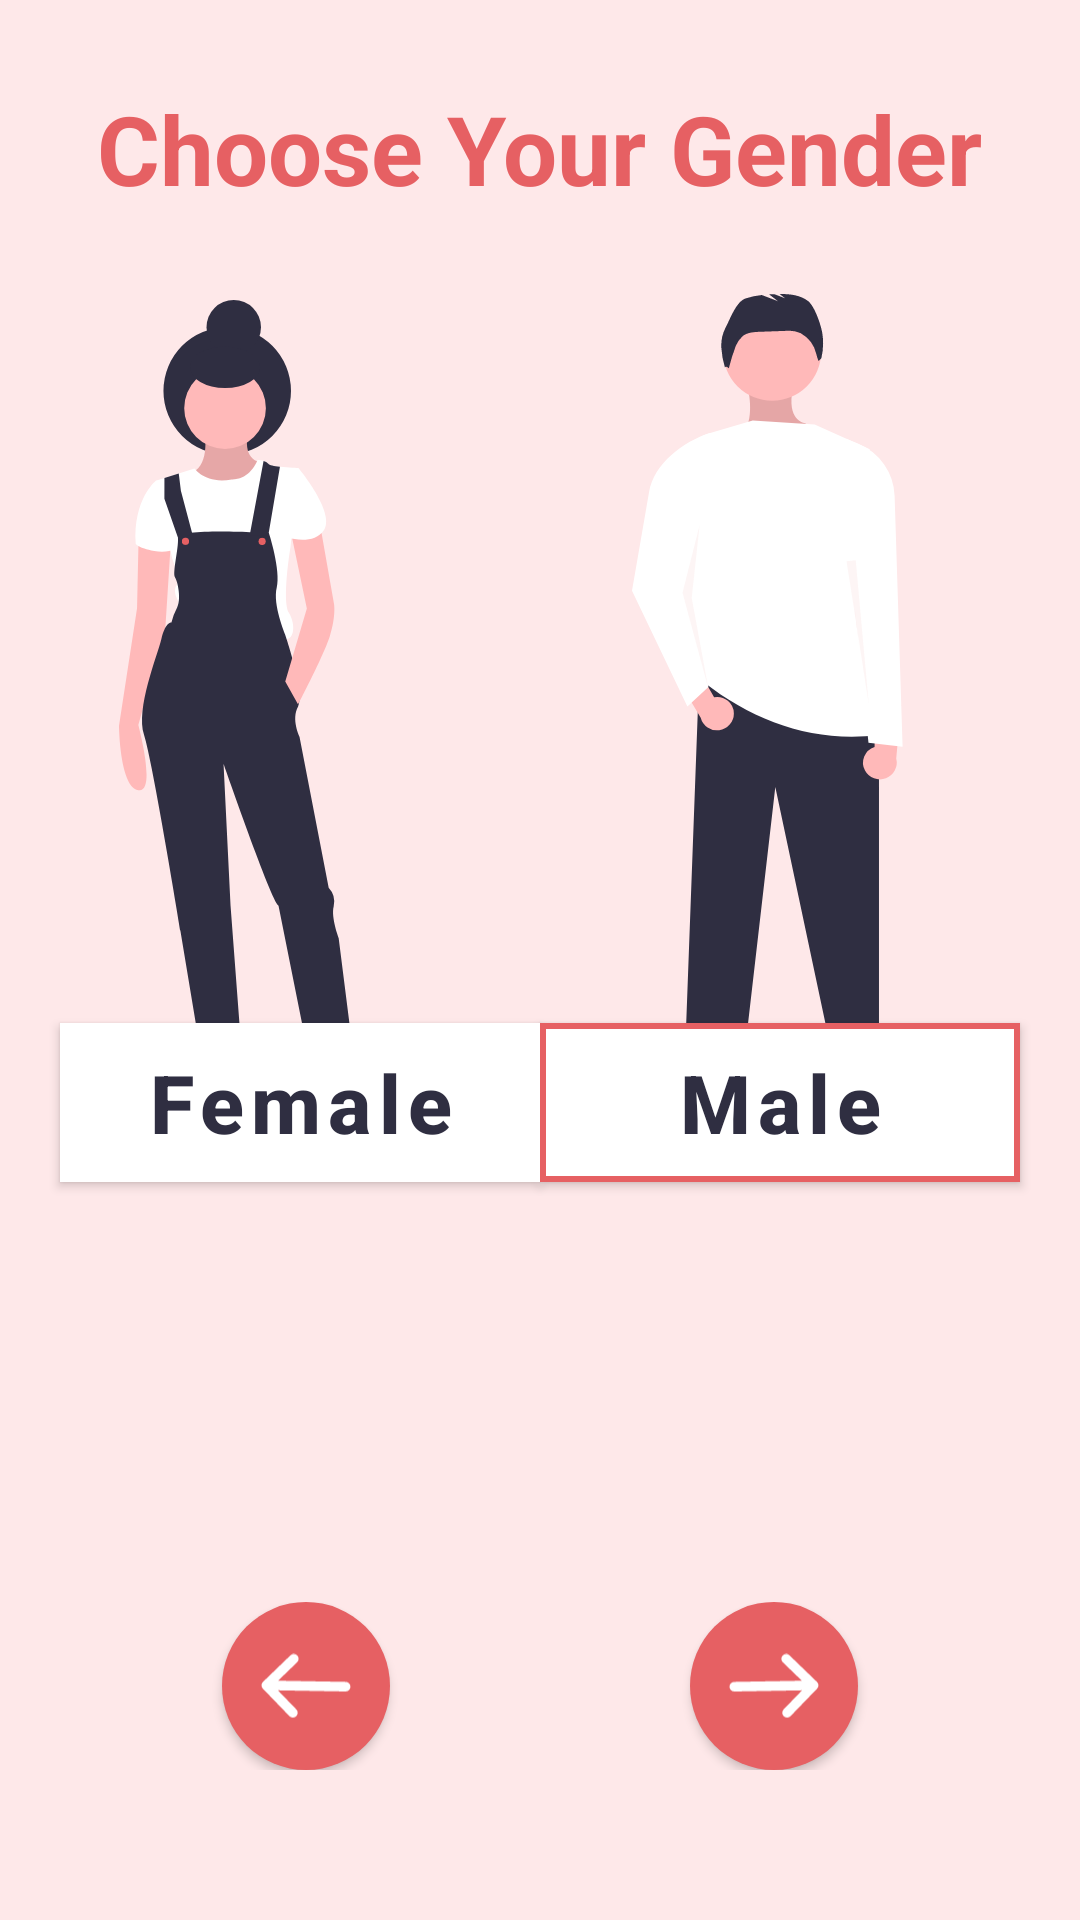

Where to tap for icons on this 1080*1920 app screen, as (x,y):
left arrow: (306,1686)
right arrow: (774,1686)
